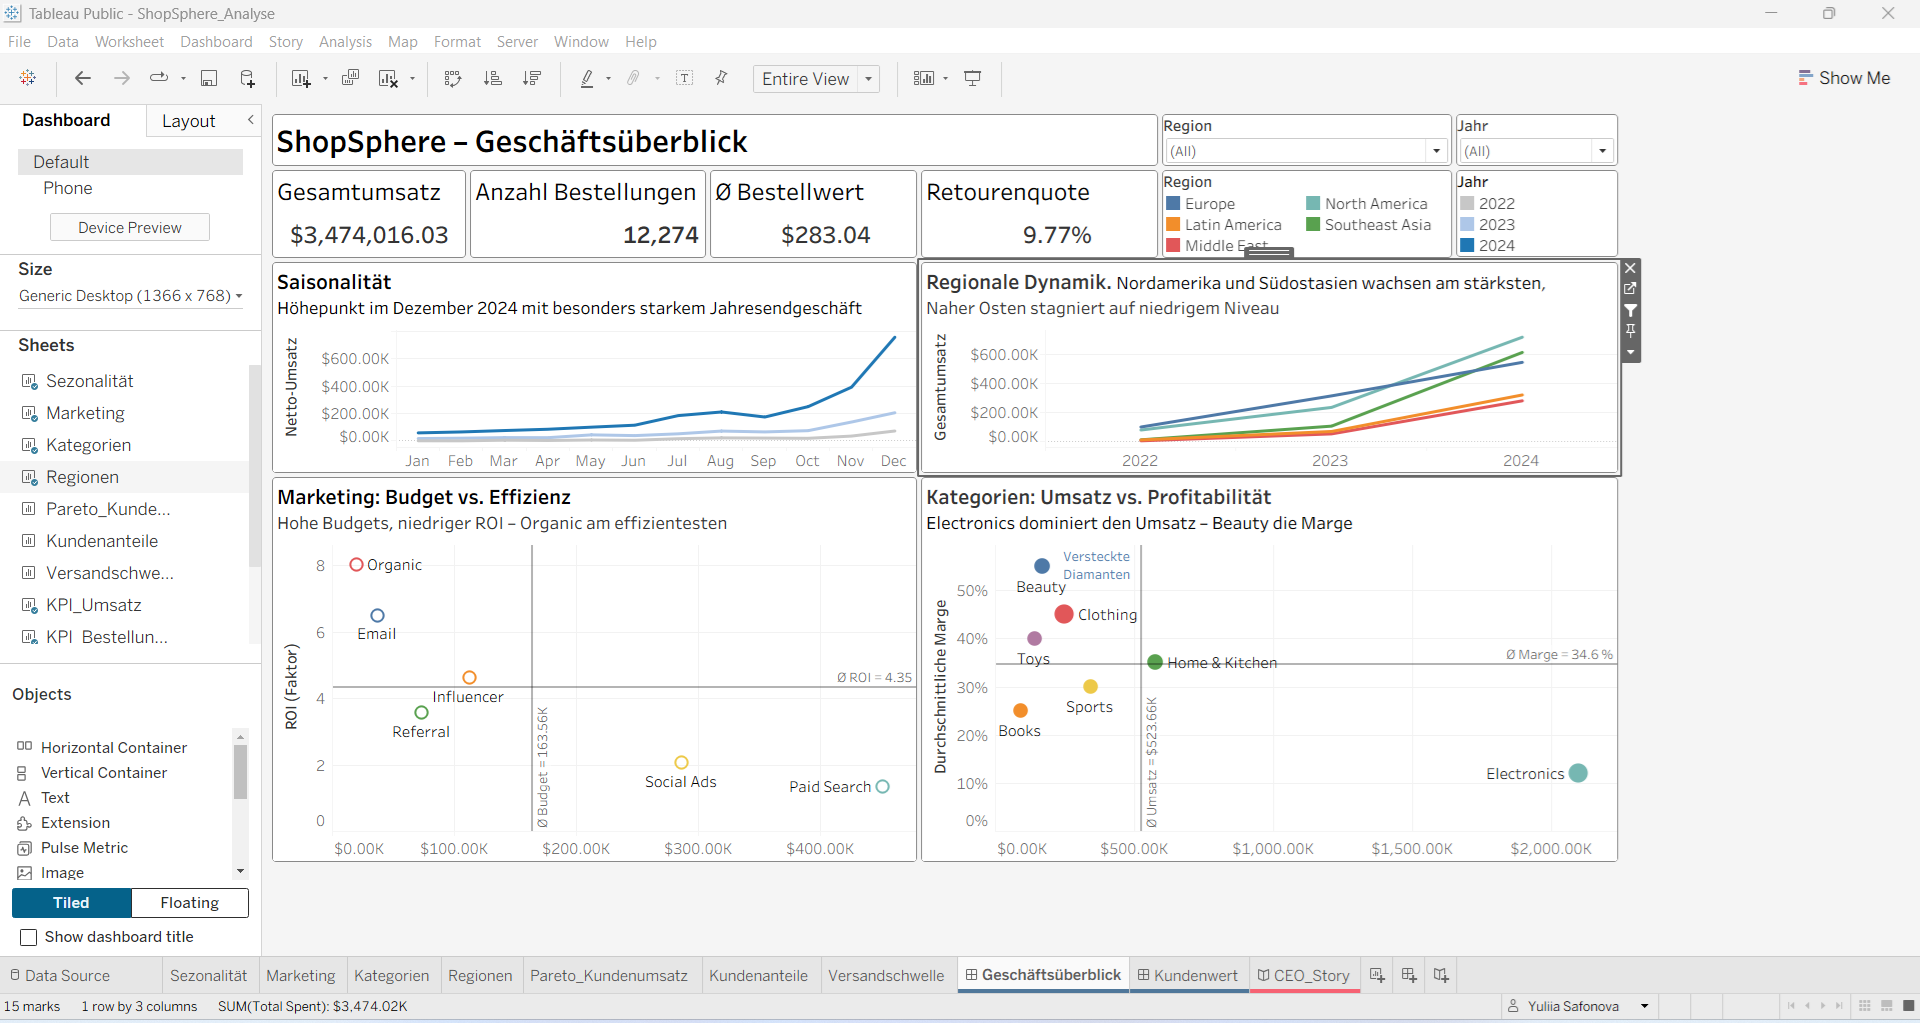

This screenshot's page, from the dashboard's own definition file:
{"tool":"tableau","page":{"name":"Geschäftsüberblick","canvas":[1366,768],"ordinal":0},"visuals":[{"type":"text","box":[8,8,890,56]},{"type":"filter","title":"Regionen","param":"[federated.1g0chgs1h25pfb14zny0c0hhzowp].[none:region:nk]","box":[898,8,294,56]},{"type":"filter","title":"Sezonalität","param":"[federated.1771beu1rz5j4s195cevu06qixh3].[none:order_year:ok]","box":[1192,8,166,56]},{"type":"worksheet","title":"KPI_Umsatz","mark":"Automatic","box":[8,64,198,92]},{"type":"worksheet","title":"KPI_Bestellungen","mark":"Automatic","box":[206,64,240.5,92]},{"type":"worksheet","title":"KPI_Bestellwert","mark":"Automatic","box":[446.5,64,211,92]},{"type":"worksheet","title":"KPI_Retourenquote","mark":"Automatic","box":[657.5,64,240.5,92]},{"type":"legend","title":"Regionen","param":"[federated.1g0chgs1h25pfb14zny0c0hhzowp].[none:region:nk]","box":[898,64,294,92]},{"type":"legend","title":"Sezonalität","param":"[federated.1771beu1rz5j4s195cevu06qixh3].[none:order_year:ok]","box":[1192,64,166,91]},{"type":"worksheet","title":"Sezonalität","mark":"Line","rows":["net_amount"],"cols":["order_date"],"box":[8,156,649,215]},{"type":"worksheet","title":"Regionen","mark":"Line","rows":["total_spent"],"cols":["order_year"],"box":[657,156,701,215]},{"type":"worksheet","title":"Marketing","mark":"Automatic","rows":["roi"],"cols":["total_budget"],"box":[8,371,649,389]},{"type":"worksheet","title":"Kategorien","mark":"Circle","rows":["avg_margin_pct"],"cols":["total_revenue"],"box":[657,371,701,389]}]}

Visuals, with their boxes on the page's 1366x768 design canvas (x1, y1, x2, y2). These are canvas units, not pixel positions in the 1920x1023 screenshot, which may show the page scaled, cropped or inside an application window:
text: region(8, 8, 898, 64)
"Regionen" filter: region(898, 8, 1192, 64)
"Sezonalität" filter: region(1192, 8, 1358, 64)
"KPI_Umsatz" worksheet: region(8, 64, 206, 156)
"KPI_Bestellungen" worksheet: region(206, 64, 446, 156)
"KPI_Bestellwert" worksheet: region(446, 64, 658, 156)
"KPI_Retourenquote" worksheet: region(658, 64, 898, 156)
"Regionen" legend: region(898, 64, 1192, 156)
"Sezonalität" legend: region(1192, 64, 1358, 155)
"Sezonalität" worksheet (Line marks): region(8, 156, 657, 371)
"Regionen" worksheet (Line marks): region(657, 156, 1358, 371)
"Marketing" worksheet: region(8, 371, 657, 760)
"Kategorien" worksheet (Circle marks): region(657, 371, 1358, 760)
